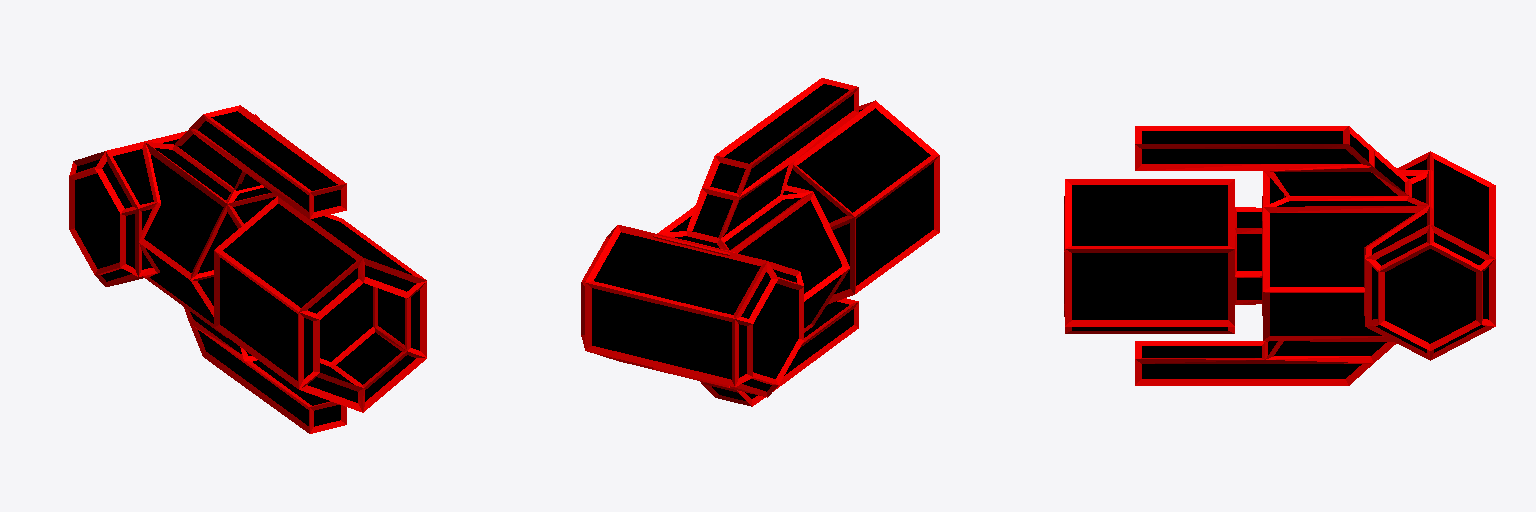
Rendered from laser_canon.obj.
3 views of the same model, side by side, from view 1: azimuth 30°, elevation 25°; view 2: azimuth 150°, elevation 25°; view 3: azimuth 270°, elevation 25° (orthographic).
Parts seen in each view (by area): view 1: Cylinder.003_Cylinder.005, Cylinder.005_Cylinder.009, Cylinder.004_Cylinder.006; view 2: Cylinder.003_Cylinder.005, Cylinder.005_Cylinder.009, Cylinder.004_Cylinder.006; view 3: Cylinder.003_Cylinder.005, Cylinder.005_Cylinder.009, Cylinder.004_Cylinder.006.
Boxes of the visible parts, x1,y1,x2,y2 form: Cylinder.003_Cylinder.005: [76, 111, 419, 405]; Cylinder.005_Cylinder.009: [69, 105, 426, 433]; Cylinder.004_Cylinder.006: [75, 121, 340, 426]; Cylinder.003_Cylinder.005: [592, 84, 933, 379]; Cylinder.005_Cylinder.009: [581, 78, 939, 406]; Cylinder.004_Cylinder.006: [712, 94, 853, 400]; Cylinder.003_Cylinder.005: [1072, 131, 1488, 378]; Cylinder.005_Cylinder.009: [1064, 126, 1495, 385]; Cylinder.004_Cylinder.006: [1237, 192, 1484, 352].
Bounding box in the file's own units: 2.41 × 3.25 × 5.24.